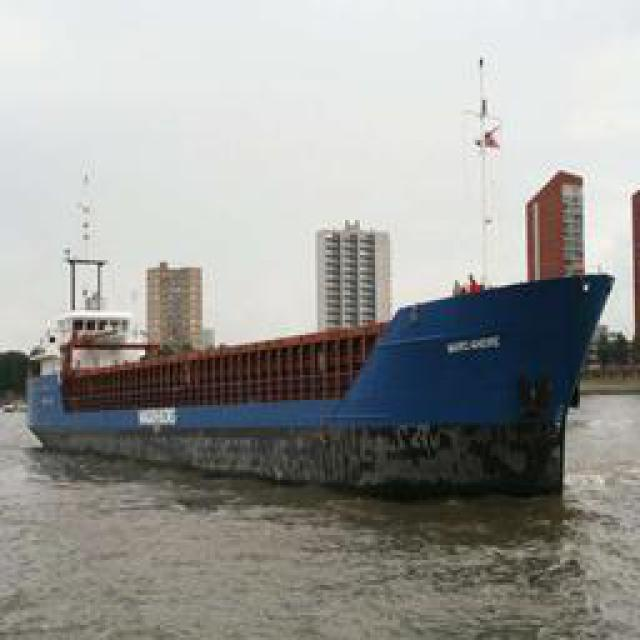Ship: (36, 263, 616, 501)
